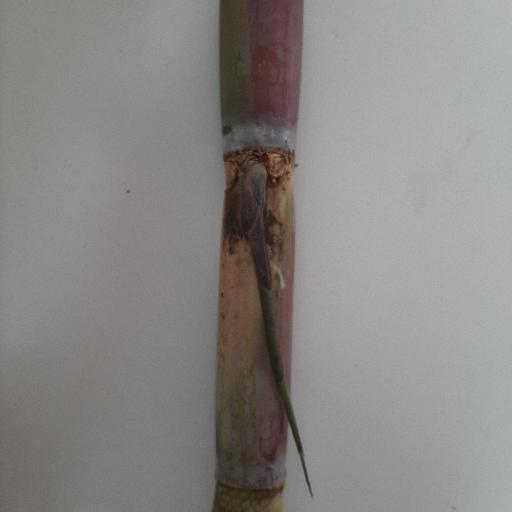Sprouted_Bud: (237, 158, 269, 246)
